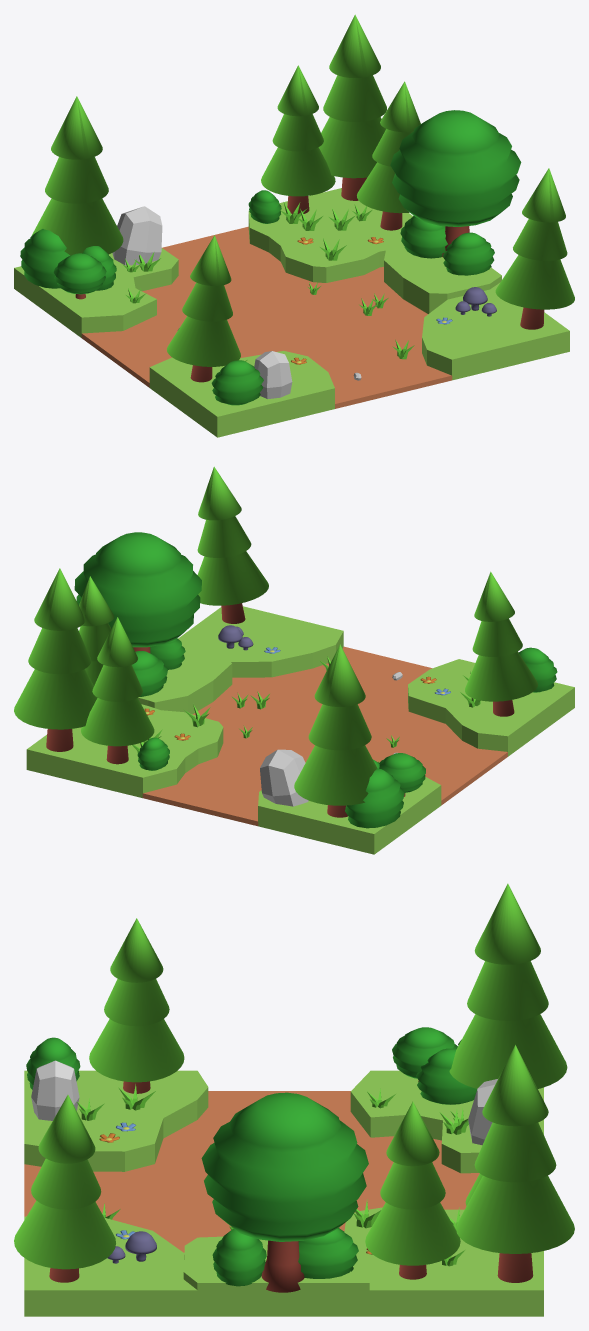
File: jungle level set - 3 Way (2).fbx
3 views of the same model, one above another, from view 1: azimuth 30°, elevation 25°; view 2: azimuth 150°, elevation 25°; view 3: azimuth 270°, elevation 25° (orthographic). The views are drawn at different scales.
Parts seen in each view (by area): view 1: land_platform, tree_003, tree_001, tree_006, tree_007, tree, tree_005, tree_002, stone_001, bush_003, bush_005, bush_004 (+5 smaller); view 2: land_platform, tree_003, tree_001, tree_006, tree_007, tree, tree_005, bush_003, stone_001, tree_002, tree_004, bush (+3 smaller); view 3: land_platform, tree_003, tree_001, tree_006, tree_007, tree_002, tree_005, bush_004, bush, stone, bush_001, tree_004 (+3 smaller).
Boxes of the visible parts, x1=… form: land_platform: x1=14, y1=188, x2=569, y2=437; tree_003: x1=390, y1=110, x2=521, y2=257; tree_001: x1=318, y1=14, x2=386, y2=200; tree_006: x1=31, y1=96, x2=123, y2=255; tree_007: x1=495, y1=168, x2=574, y2=329; tree: x1=261, y1=65, x2=335, y2=213; tree_005: x1=167, y1=235, x2=240, y2=382; tree_002: x1=357, y1=81, x2=420, y2=230; stone_001: x1=112, y1=206, x2=162, y2=265; bush_003: x1=20, y1=229, x2=70, y2=288; bush_005: x1=211, y1=360, x2=263, y2=405; bush_004: x1=442, y1=232, x2=494, y2=275; land_platform: x1=26, y1=606, x2=574, y2=854; tree_003: x1=74, y1=532, x2=201, y2=653; tree_001: x1=14, y1=568, x2=97, y2=751; tree_006: x1=294, y1=644, x2=377, y2=817; tree_007: x1=197, y1=466, x2=268, y2=623; tree: x1=81, y1=617, x2=154, y2=764; tree_005: x1=465, y1=571, x2=537, y2=716; bush_003: x1=345, y1=768, x2=404, y2=828; stone_001: x1=260, y1=749, x2=308, y2=806; tree_002: x1=79, y1=576, x2=114, y2=685; tree_004: x1=379, y1=753, x2=425, y2=796; bush: x1=132, y1=651, x2=167, y2=696; land_platform: x1=24, y1=1070, x2=543, y2=1316; tree_003: x1=201, y1=1092, x2=368, y2=1292; tree_001: x1=456, y1=1045, x2=574, y2=1282; tree_006: x1=449, y1=883, x2=567, y2=1088; tree_007: x1=14, y1=1095, x2=115, y2=1282; tree_002: x1=365, y1=1101, x2=460, y2=1279; tree_005: x1=89, y1=918, x2=184, y2=1093; bush_004: x1=212, y1=1228, x2=266, y2=1286; bush: x1=298, y1=1228, x2=358, y2=1278; stone: x1=31, y1=1060, x2=79, y2=1120; bush_001: x1=416, y1=1048, x2=477, y2=1104; tree_004: x1=392, y1=1027, x2=457, y2=1081.
Size of the model in its own units: 17.38 by 8.53 by 16.38.
